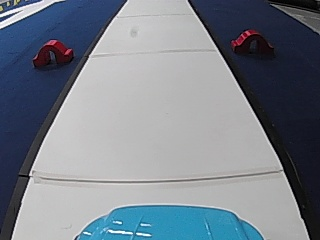bridge: (228, 25, 275, 56), (30, 36, 73, 68)
